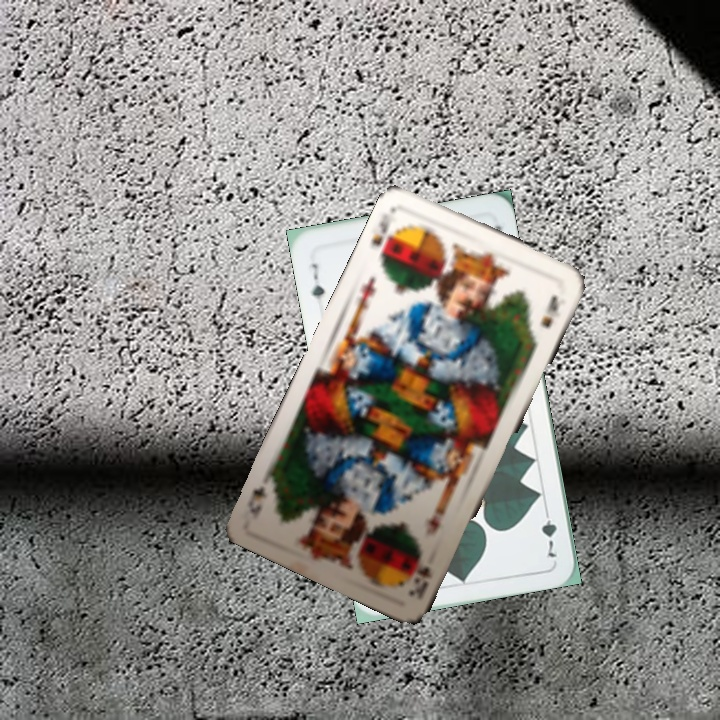G7: (537, 503, 559, 561), (307, 259, 327, 309)
SK: (366, 203, 408, 264), (404, 563, 435, 602)
